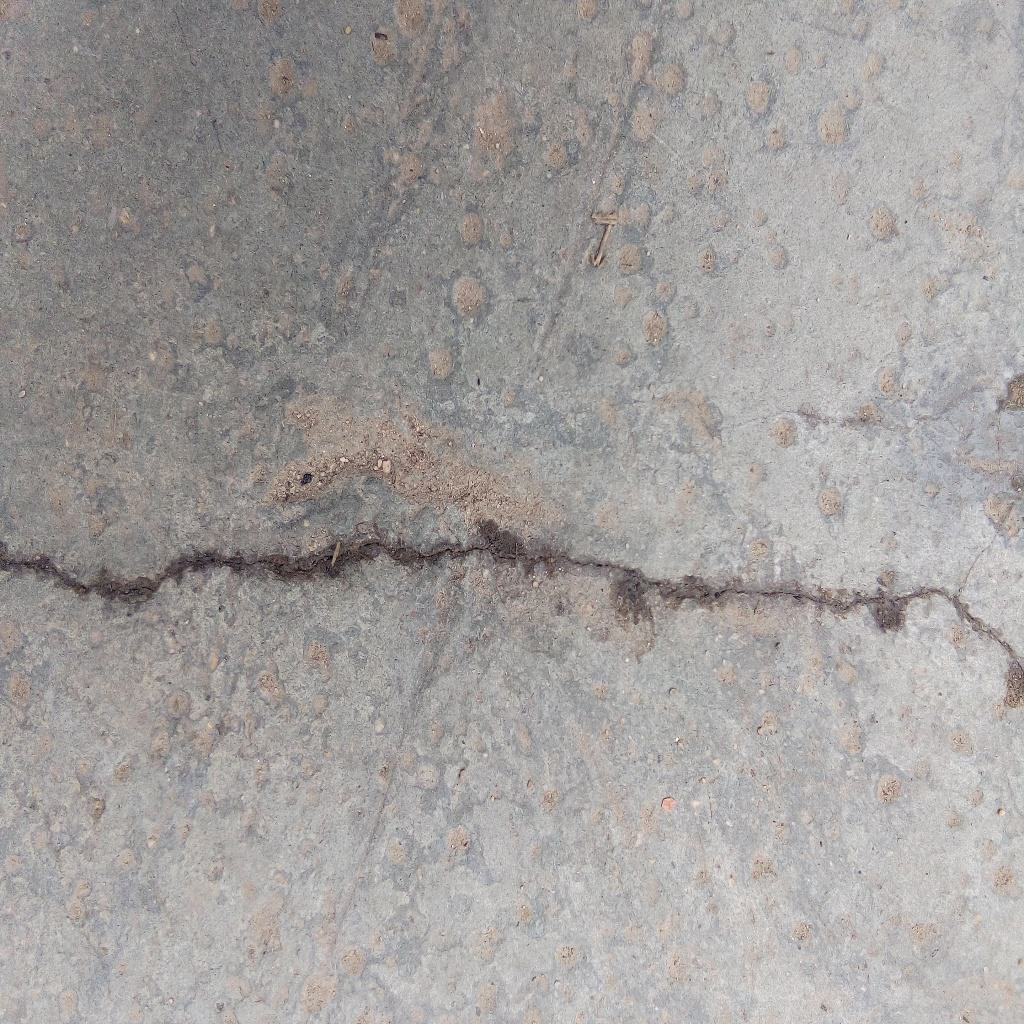Crack: (1, 517, 1024, 711)
